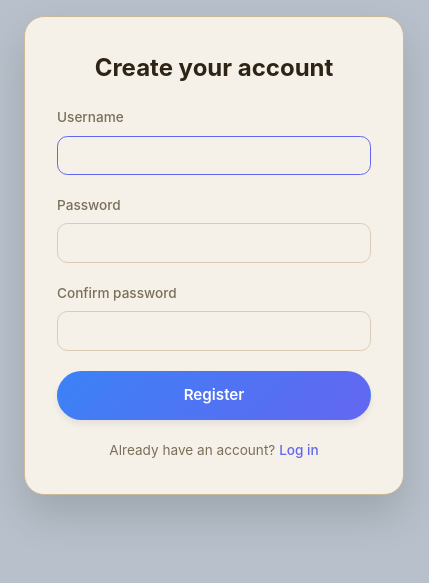
Test case: AuthForm › register mode › validates password mismatch
Type "myuser" into the field labelled "Username" at x=214, y=155, box [57,136,371,175]
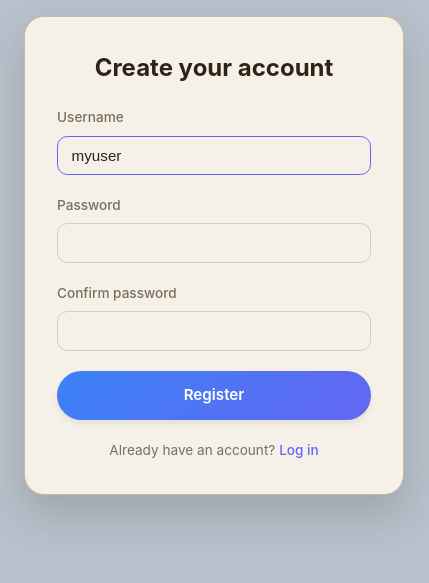
Type "password123" into the password field labelled "Password" at x=214, y=243, box [57,224,371,263]
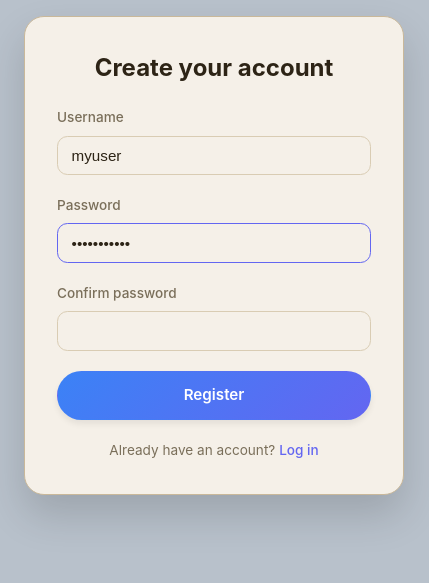
Type "differentpass" into the password field labelled "Confirm password" at x=214, y=331, box [57,311,371,351]
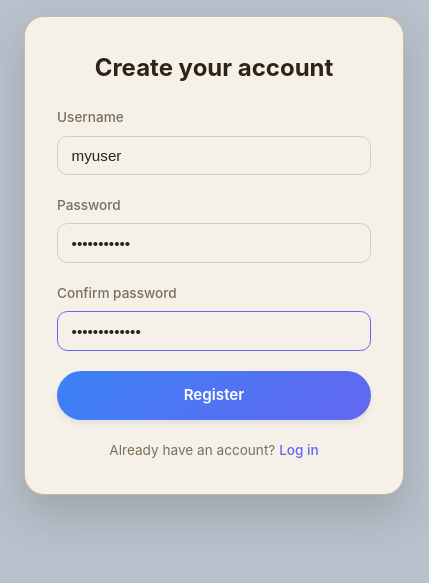
Click the button "Register" at x=214, y=396, box [57,371,371,420]
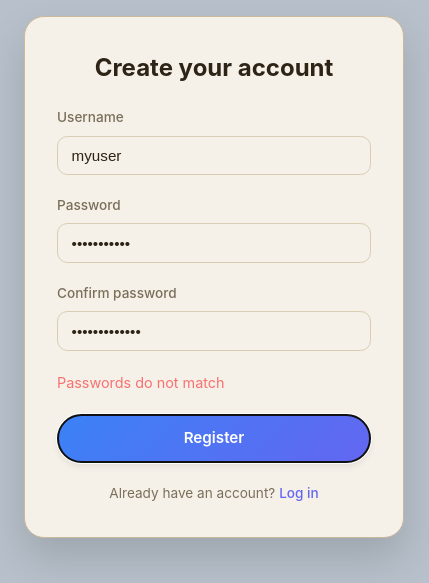
Now the text "Passwords do not match" is shown, box [57,374,225,391]
